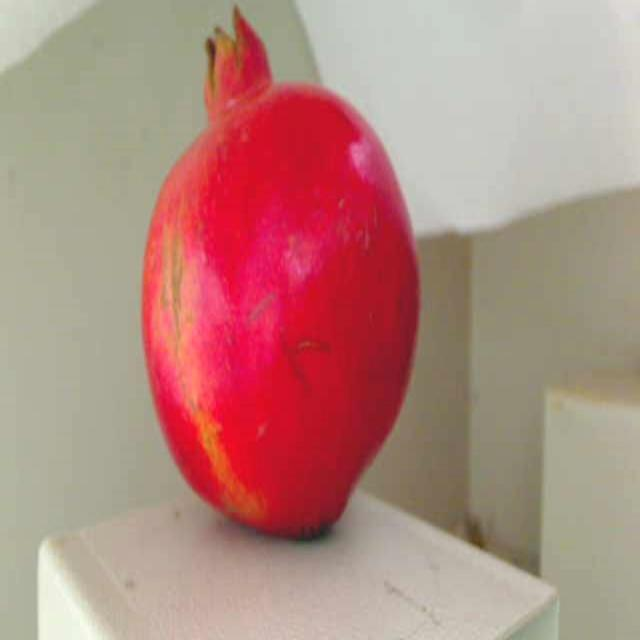pomegranate: (133, 9, 429, 556)
